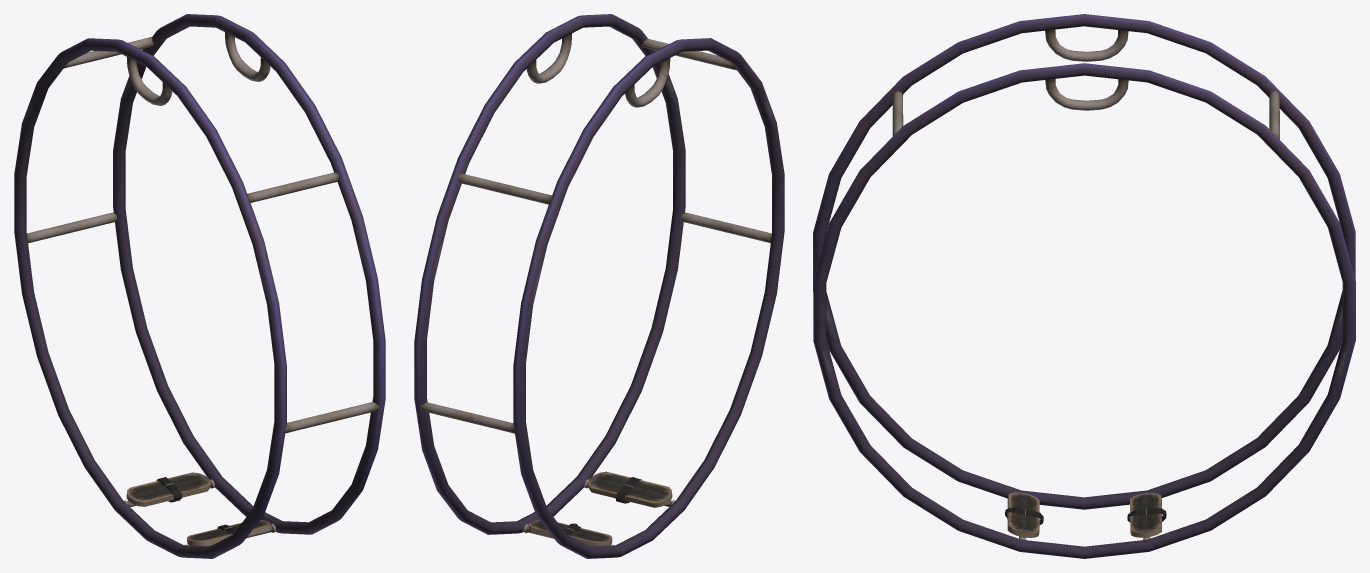
The model's file is GermanWheel_Scaled.fbx.
The picture shows the model from 3 angles, left to right: view 1: azimuth 30°, elevation 25°; view 2: azimuth 150°, elevation 25°; view 3: azimuth 270°, elevation 25°; orthographic projection. The views are drawn at different scales.
Parts seen in each view (by area): view 1: GermanWheel1, GermanWheel2, GermanWheel_Footpad1, GermanWheel_Bar3, GermanWheel_Bar2, GermanWheel_Bar4, GermanWheel_Handle2, GermanWheel_Footpad2, GermanWheel_Handle1, GermanWheel_Bar1; view 2: GermanWheel1, GermanWheel2, GermanWheel_Footpad2, GermanWheel_Bar1, GermanWheel_Bar4, GermanWheel_Bar3, GermanWheel_Footpad1, GermanWheel_Handle2, GermanWheel_Handle1, GermanWheel_Bar2; view 3: GermanWheel2, GermanWheel1, GermanWheel_Footpad2, GermanWheel_Footpad1, GermanWheel_Handle1, GermanWheel_Handle2.
Part boxes in pixels (x1,y1,x2,y2): GermanWheel1: [14, 38, 286, 558]; GermanWheel2: [113, 14, 385, 534]; GermanWheel_Footpad1: [126, 472, 210, 506]; GermanWheel_Bar3: [284, 402, 378, 433]; GermanWheel_Bar2: [247, 172, 338, 202]; GermanWheel_Bar4: [27, 212, 117, 243]; GermanWheel_Handle2: [225, 32, 270, 81]; GermanWheel_Footpad2: [187, 520, 270, 546]; GermanWheel_Handle1: [127, 57, 172, 105]; GermanWheel_Bar1: [64, 37, 153, 68]; GermanWheel1: [513, 38, 784, 558]; GermanWheel2: [414, 14, 685, 534]; GermanWheel_Footpad2: [588, 471, 672, 507]; GermanWheel_Bar1: [457, 173, 552, 204]; GermanWheel_Bar4: [421, 402, 515, 433]; GermanWheel_Bar3: [681, 212, 771, 242]; GermanWheel_Footpad1: [529, 519, 612, 546]; GermanWheel_Handle2: [526, 33, 571, 83]; GermanWheel_Handle1: [625, 58, 670, 107]; GermanWheel_Bar2: [641, 38, 736, 70]; GermanWheel2: [813, 63, 1355, 558]; GermanWheel1: [813, 14, 1355, 509]; GermanWheel_Footpad2: [1007, 492, 1039, 537]; GermanWheel_Footpad1: [1130, 493, 1161, 537]; GermanWheel_Handle1: [1045, 29, 1128, 61]; GermanWheel_Handle2: [1045, 79, 1128, 110].
Bounding box in the file's own units: 51.39 × 215 × 214.
